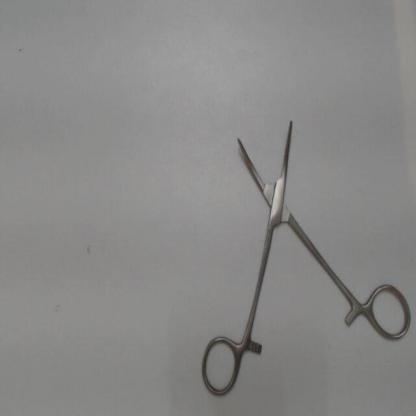Crile Artery Forceps: (197, 113, 412, 404)
